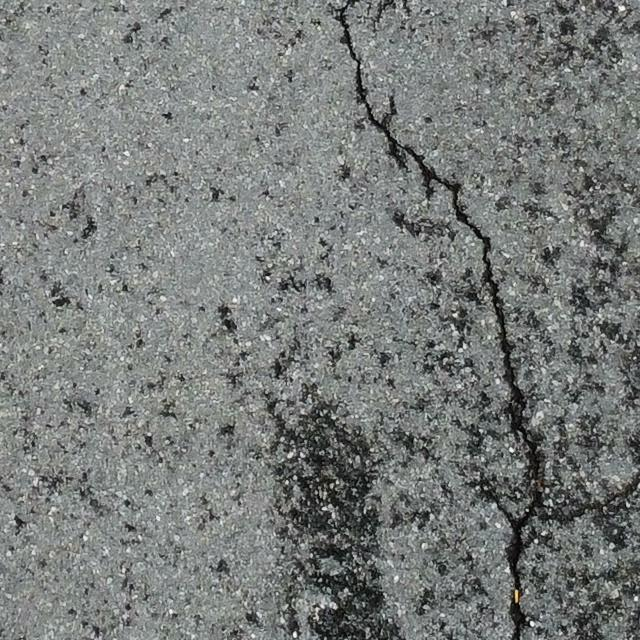LongitudinalCrack: (339, 3, 640, 640)
